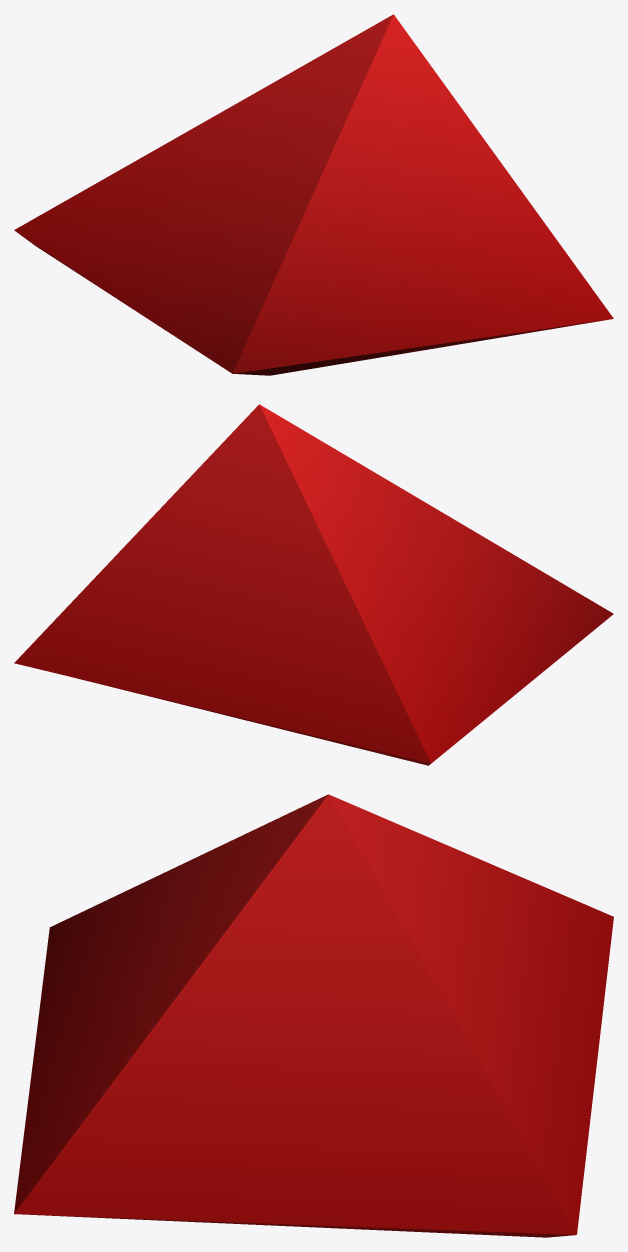
File: c_roof_square_ac.fbx
The picture shows the model from 3 angles, top to bottom: view 1: azimuth 30°, elevation 25°; view 2: azimuth 150°, elevation 25°; view 3: azimuth 270°, elevation 25°; orthographic projection. The views are drawn at different scales.
Visible parts, largest first — view 1: c_roof_square_ac; view 2: c_roof_square_ac; view 3: c_roof_square_ac.
Boxes of the visible parts, box(x1,y1,x2,y2) form: c_roof_square_ac: box(14, 14, 613, 375); c_roof_square_ac: box(14, 404, 613, 765); c_roof_square_ac: box(14, 794, 613, 1237).
Size of the model in its own units: 8.17 by 4.61 by 6.95.
